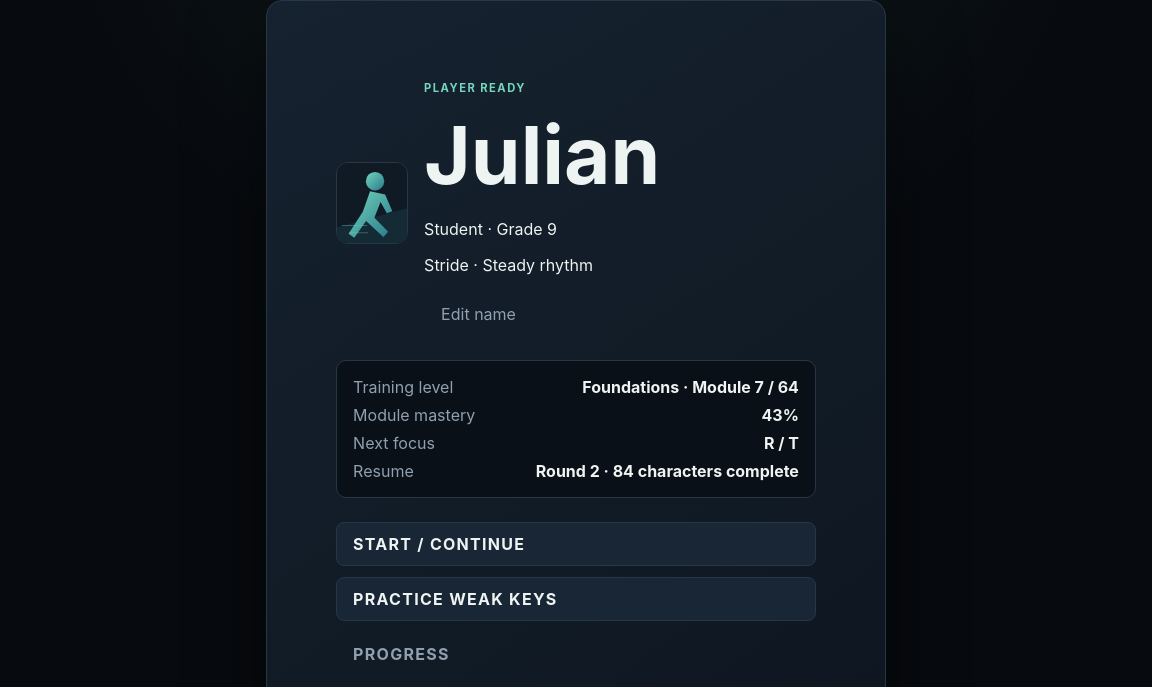
it: REV11 player experience › opens a functional progress view and renders collecting cadence
The width and height of the screenshot is (1152, 687).
Click the button "Progress".
click(401, 654)  # box [336,631,816,676]
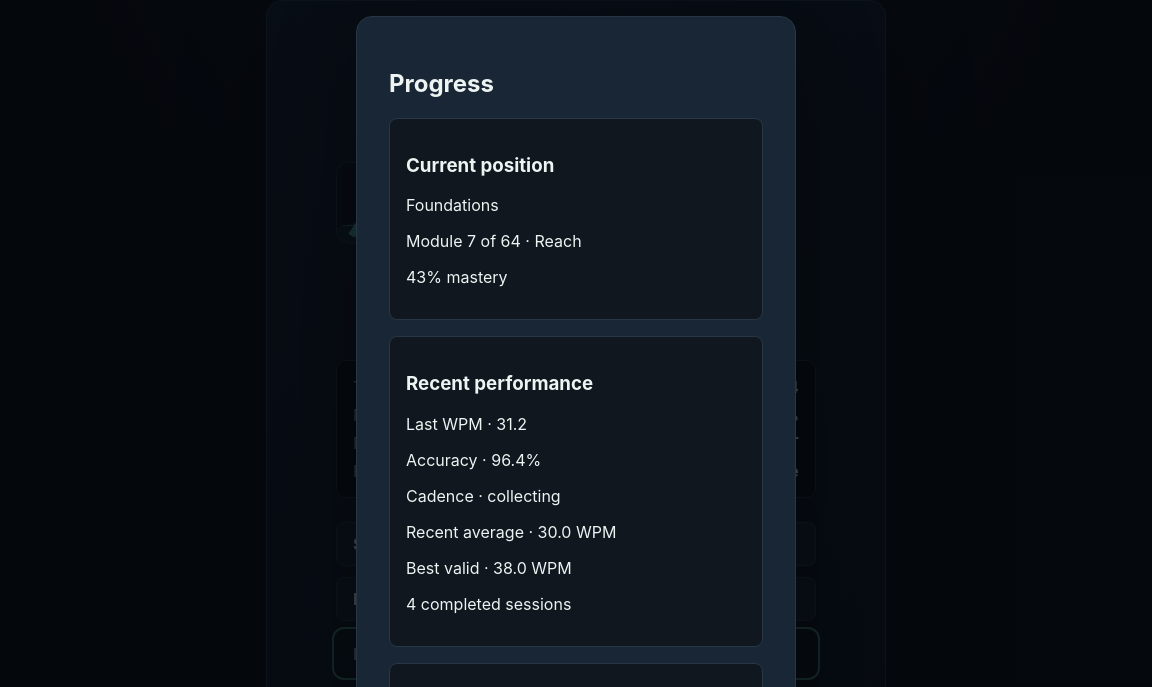
Check: the text "Module 7 of 64 · Reach" is shown, box [406,231,582,251]
Check: the text "Cadence · collecting" is shown, box [406,486,561,506]
